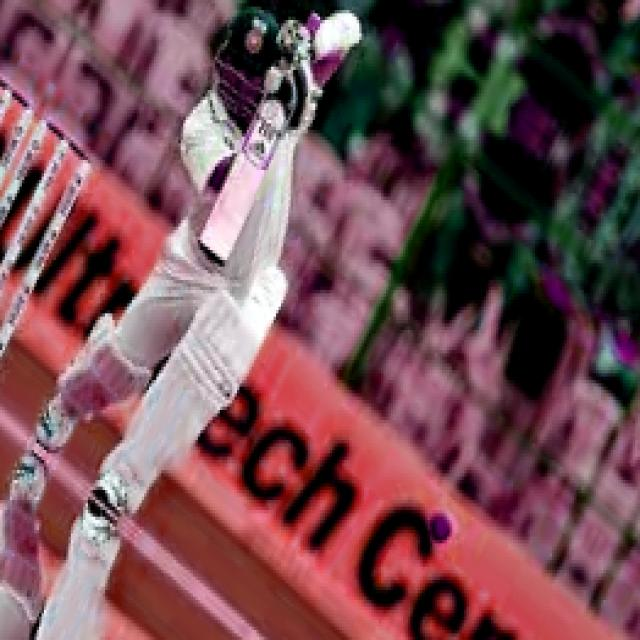toe: (191, 210, 245, 270)
